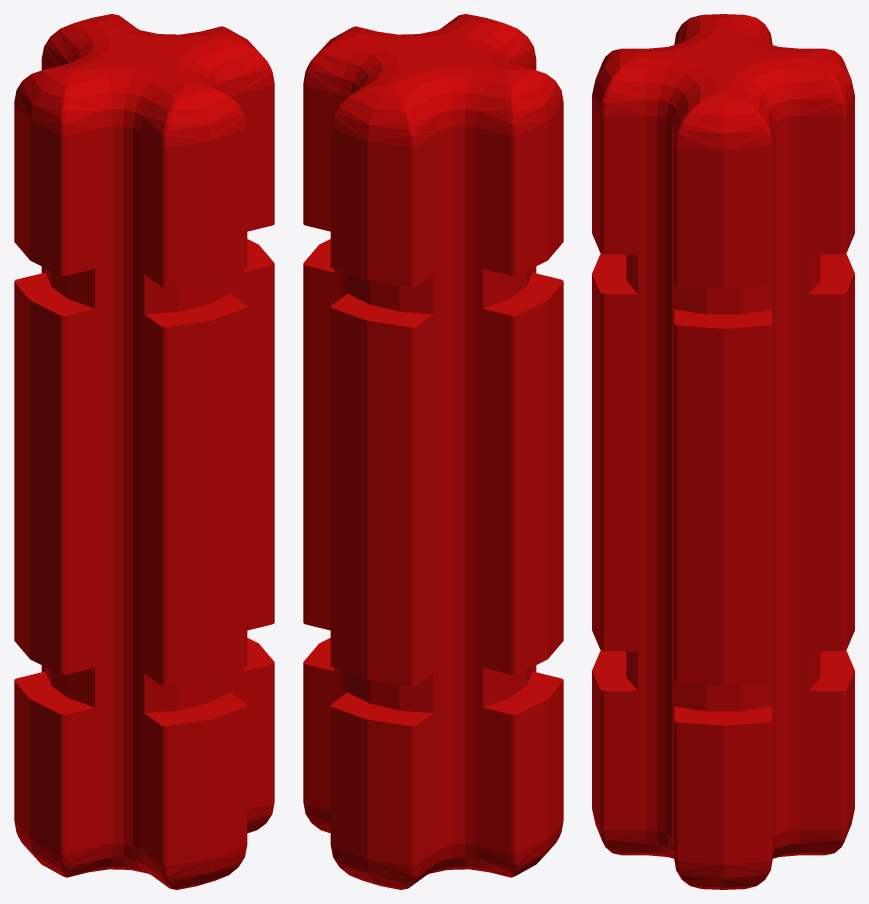
Rendered from Red_4142865_JCA.fbx.
The picture shows the model from 3 angles, left to right: view 1: azimuth 30°, elevation 25°; view 2: azimuth 150°, elevation 25°; view 3: azimuth 270°, elevation 25°; orthographic projection.
Parts seen in each view (by area): view 1: Red_4142865_JCA; view 2: Red_4142865_JCA; view 3: Red_4142865_JCA.
Part boxes in pixels (bbox=[...]): Red_4142865_JCA: bbox=[14, 14, 274, 889]; Red_4142865_JCA: bbox=[303, 14, 563, 889]; Red_4142865_JCA: bbox=[592, 14, 854, 889].
Bounding box in the file's own units: 0.48 × 1.6 × 0.48.
